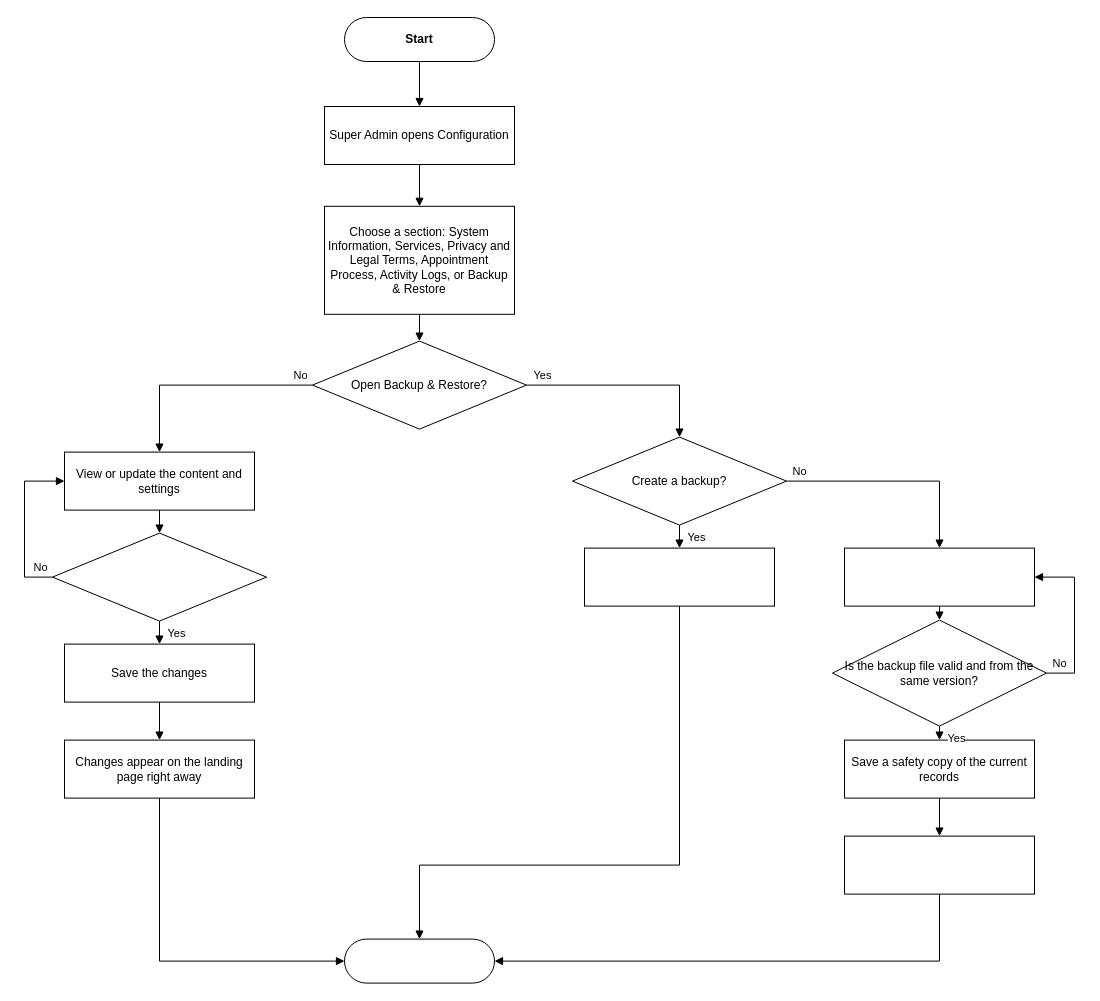
Image size: 1100x1001. Some labels were removed from this diagram. The shapes that lost their labels are listed below. From the top down, each one's centre as x and y in pixels, then its label:
At pixel 159 576: "Are the required fields filled in?".
At pixel 679 576: "Create a backup and download the ZIP file".
At pixel 939 576: "Upload a backup file".
At pixel 939 864: "Restore the records from the backup".
At pixel 419 960: "End".
